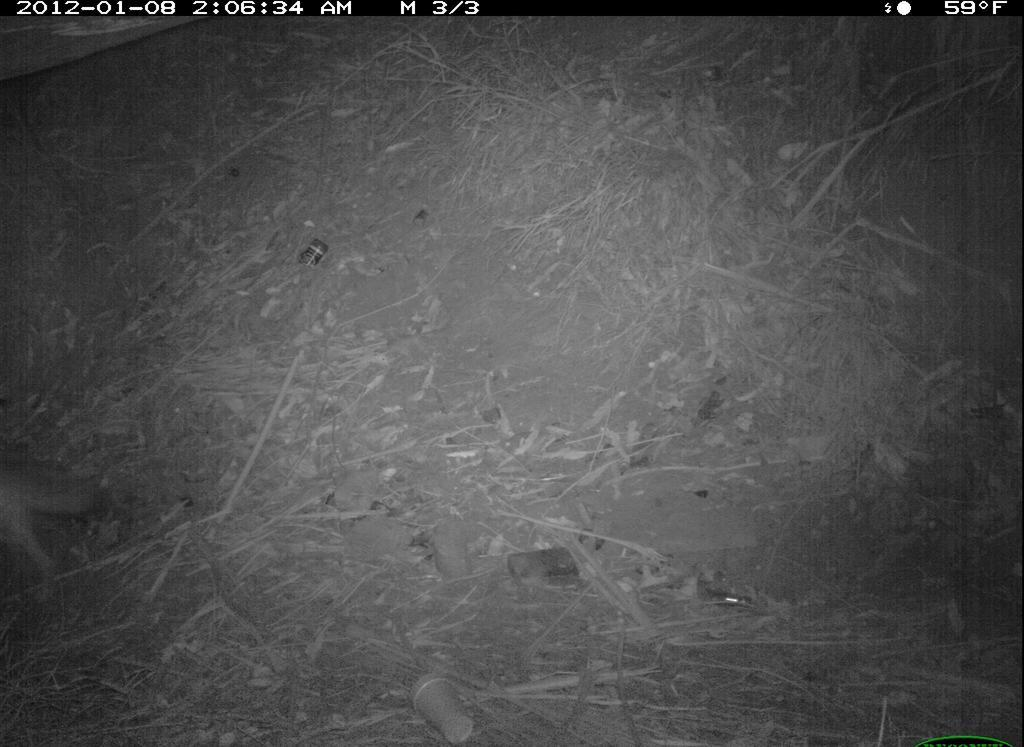coyote: (3, 449, 114, 617)
